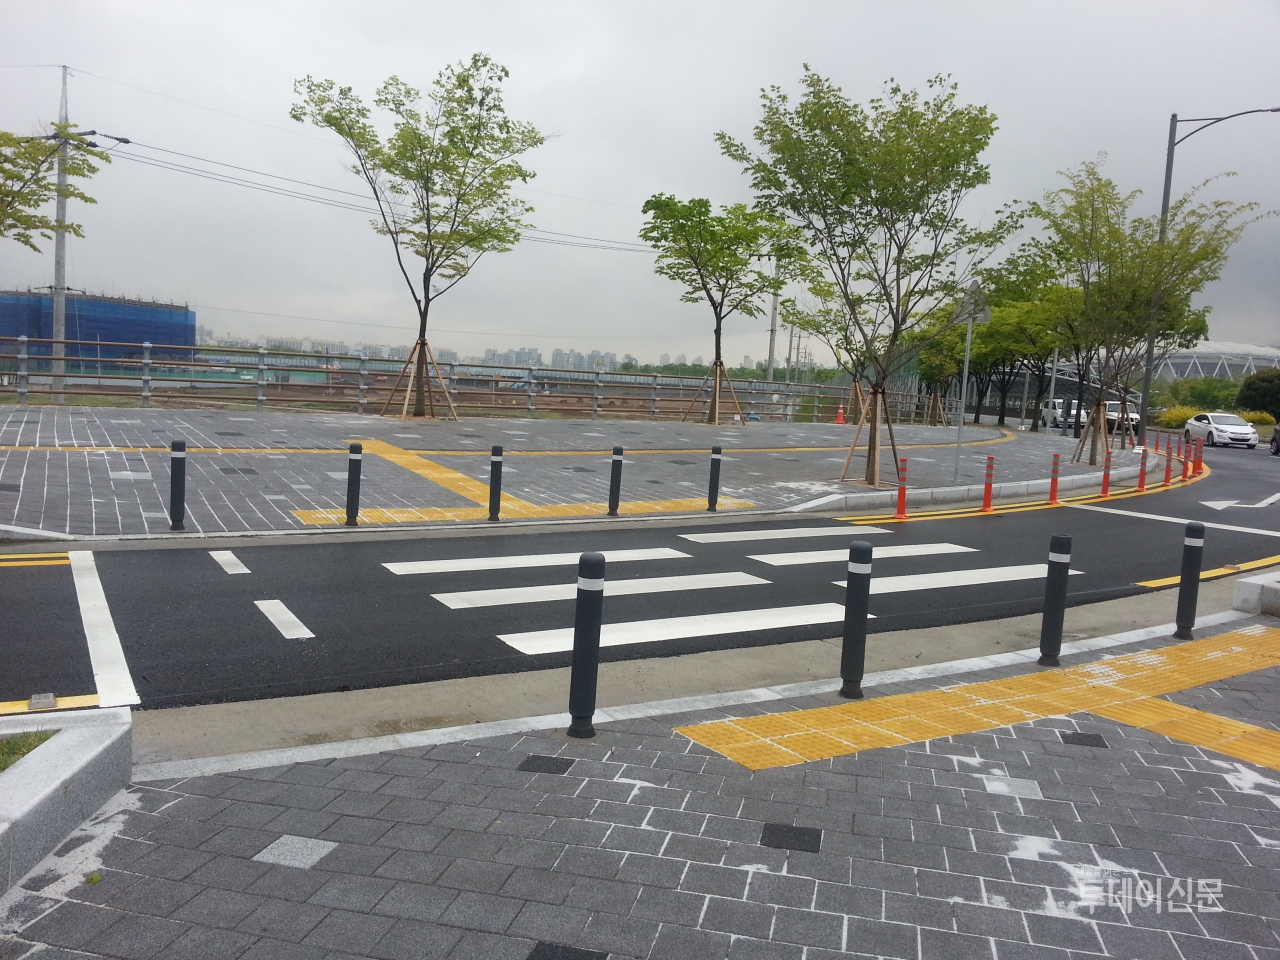guide_blocks: (1022, 681, 1280, 766), (685, 688, 935, 770), (1128, 627, 1277, 684), (358, 445, 508, 496), (295, 500, 728, 516)
